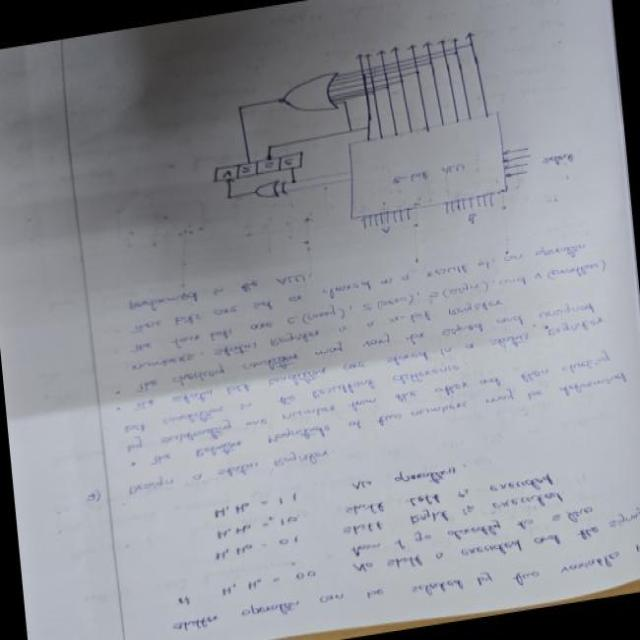Figure Detection - v3 Dataset Version2: (171, 11, 577, 272)
